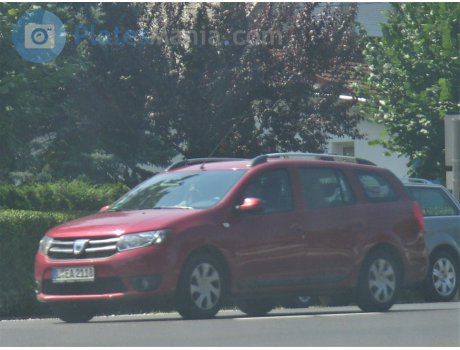License Plates: (55, 268, 96, 278)
